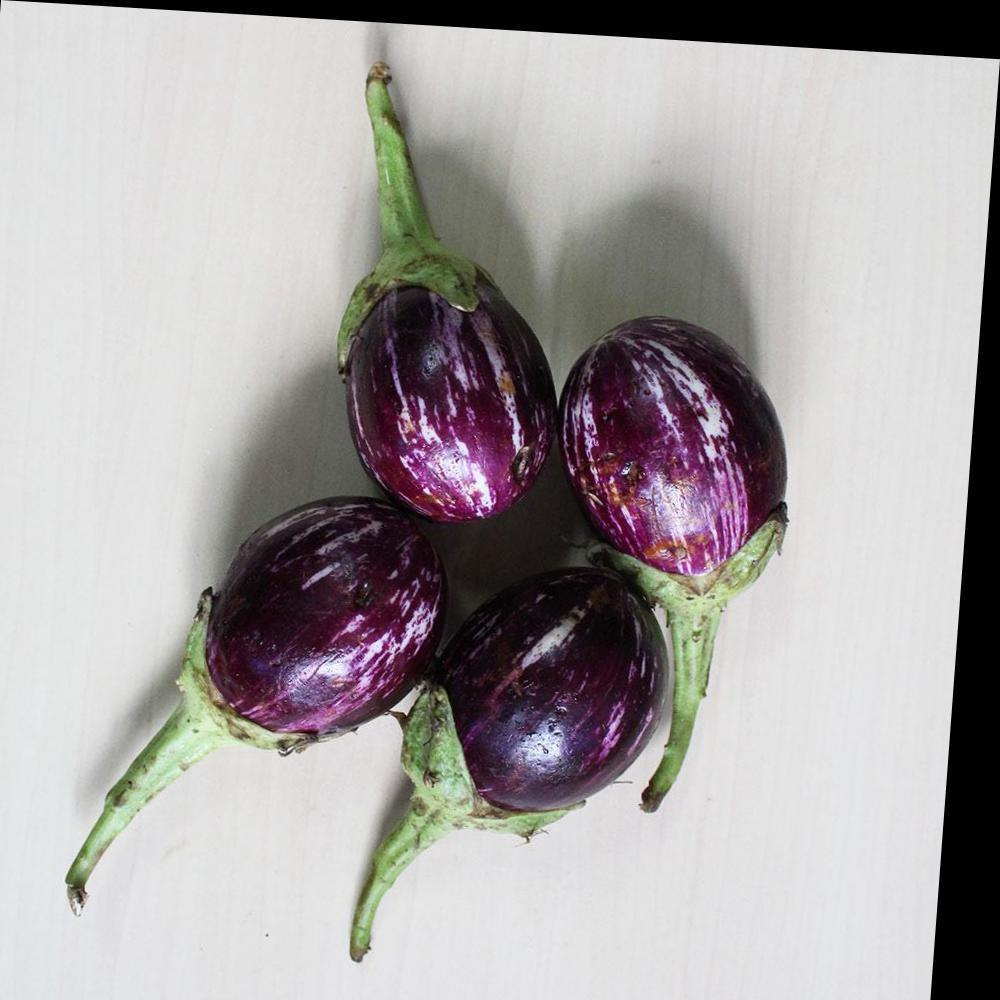eggplant: (45, 372, 526, 954), (344, 493, 771, 999), (560, 209, 874, 769), (276, 69, 590, 532)
